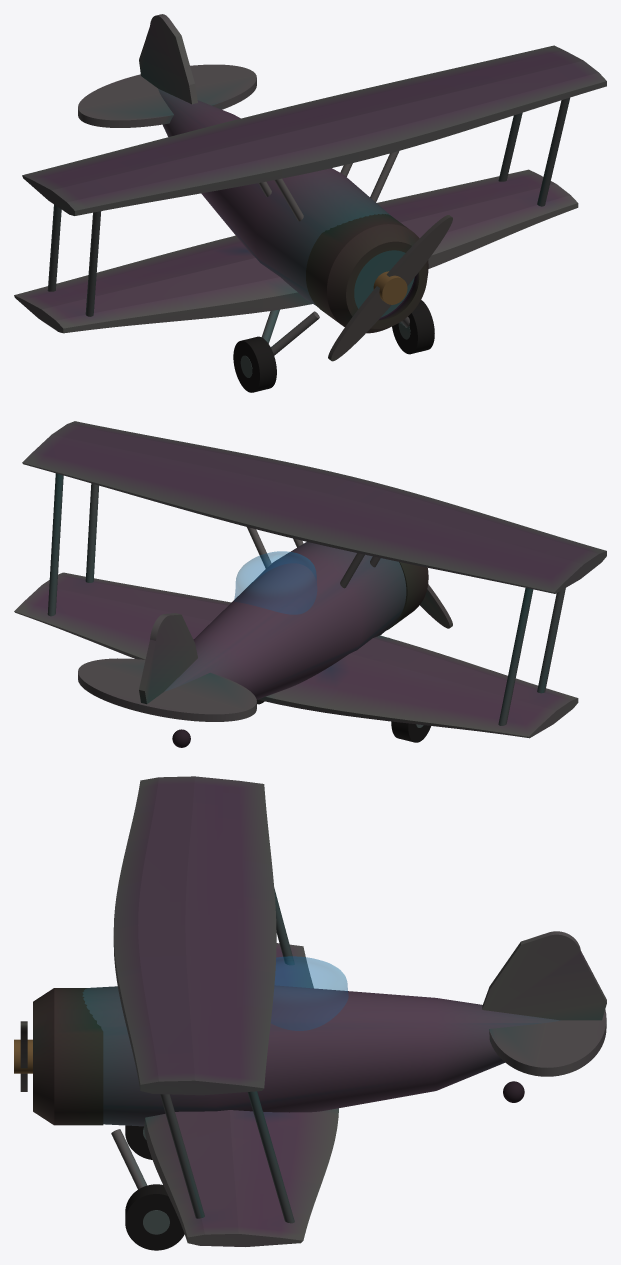
The picture shows the model from 3 angles, top to bottom: view 1: azimuth 30°, elevation 25°; view 2: azimuth 150°, elevation 25°; view 3: azimuth 270°, elevation 25°; orthographic projection. The views are drawn at different scales.
Visible parts, largest first — view 1: upper, lower, body, cowling, stabilizer, fin, blades, tire.001, tire, post, post.002, hub (+3 smaller); view 2: upper, lower, body, stabilizer, canopy, fin, post.001, post.003, cowling, post.002, post, blades (+1 smaller); view 3: upper, body, lower, cowling, fin, stabilizer, canopy, tire, post.001, post, leg.
Part boxes in pixels (<box>): upper: <box>22,45,606,215</box>; lower: <box>14,169,578,333</box>; body: <box>158,89,414,317</box>; cowling: <box>306,214,428,333</box>; stabilizer: <box>78,64,256,127</box>; fin: <box>139,14,197,104</box>; blades: <box>328,215,452,361</box>; tire.001: <box>233,336,276,392</box>; tire: <box>392,300,434,354</box>; post: <box>537,97,569,206</box>; post.002: <box>85,211,101,316</box>; hub: <box>373,271,407,304</box>; upper: <box>22,421,606,593</box>; lower: <box>14,572,578,738</box>; body: <box>164,542,406,699</box>; stabilizer: <box>78,658,256,721</box>; canopy: <box>234,551,316,614</box>; fin: <box>139,613,197,704</box>; post.001: <box>47,473,63,616</box>; post.003: <box>498,588,533,725</box>; cowling: <box>386,562,428,630</box>; post.002: <box>537,588,565,693</box>; post: <box>85,483,98,582</box>; blades: <box>420,584,452,628</box>; upper: <box>113,776,276,1095</box>; body: <box>82,985,560,1126</box>; lower: <box>144,943,338,1246</box>; cowling: <box>33,988,103,1125</box>; fin: <box>482,931,606,1020</box>; stabilizer: <box>489,1009,606,1076</box>; canopy: <box>271,956,348,1030</box>; tire: <box>125,1184,184,1250</box>; post.001: <box>247,1091,294,1223</box>; post: <box>160,1094,204,1218</box>; leg: <box>111,1129,147,1189</box>.
Size of the model in its own units: 8 by 3.39 by 6.59.
